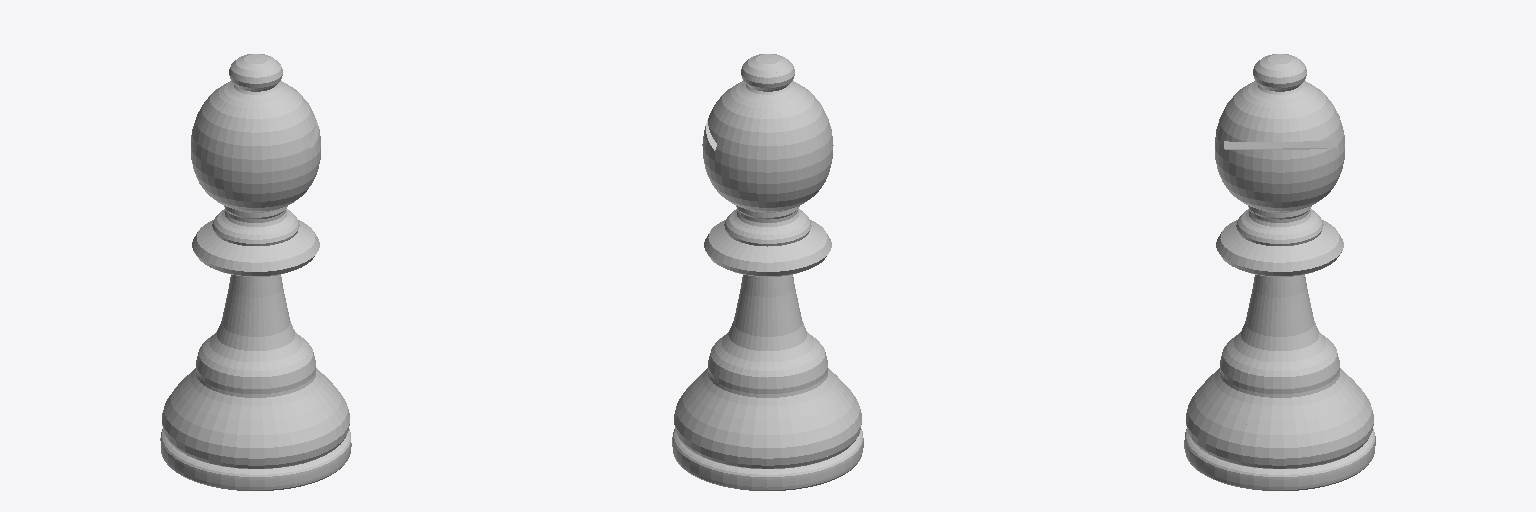
File: bishop_w_1.obj
The picture shows the model from 3 angles: view 1: azimuth 30°, elevation 25°; view 2: azimuth 150°, elevation 25°; view 3: azimuth 270°, elevation 25°; orthographic projection.
Parts seen in each view (by area): view 1: bishop_w_1; view 2: bishop_w_1; view 3: bishop_w_1.
Boxes of the visible parts, box(x1,y1,x2,y2) form: bishop_w_1: box(160, 54, 351, 490); bishop_w_1: box(672, 54, 863, 490); bishop_w_1: box(1184, 54, 1375, 490).
Bounding box in the file's own units: 3.14 × 7.15 × 3.14.